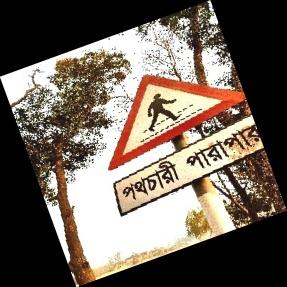Pedestrian-crossing: (107, 73, 262, 218)
